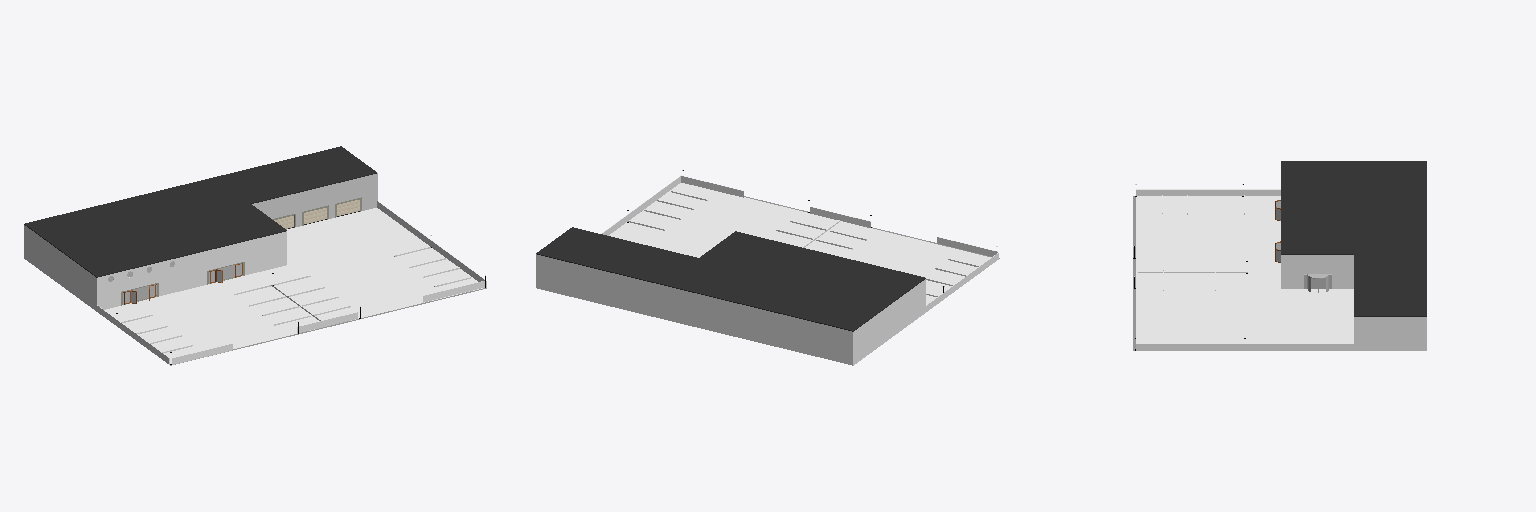
Rendered from Tienda.obj.
The picture shows the model from 3 angles: view 1: azimuth 30°, elevation 25°; view 2: azimuth 150°, elevation 25°; view 3: azimuth 270°, elevation 25°; orthographic projection.
Visible parts, largest first — view 1: room_36_206, room_37_207, wall_13_71, wall_8_41, wall_15_83, wall_18_101, wall_7_35, wall_3_10, wall_12_65, ground_1; view 2: room_37_207, room_36_206, wall_17_95, wall_11_59, wall_18_101, wall_7_35; view 3: room_36_206, room_37_207, wall_3_11, wall_14_77, wall_16_89, wall_10_53, wall_2_4, wall_9_47.
Boxes of the visible parts, x1,y1,x2,y2 form: room_36_206: [105, 208, 482, 363]; room_37_207: [24, 146, 376, 277]; wall_13_71: [97, 231, 286, 294]; wall_8_41: [97, 249, 286, 309]; wall_15_83: [252, 173, 377, 216]; wall_18_101: [24, 225, 96, 294]; wall_7_35: [24, 242, 96, 311]; wall_3_10: [377, 201, 486, 287]; wall_12_65: [270, 191, 377, 226]; ground_1: [130, 216, 486, 365]; room_37_207: [536, 227, 925, 331]; room_36_206: [609, 183, 991, 304]; wall_17_95: [536, 254, 852, 348]; wall_11_59: [536, 272, 852, 365]; wall_18_101: [853, 279, 925, 348]; wall_7_35: [853, 296, 925, 365]; room_36_206: [1136, 196, 1353, 343]; room_37_207: [1281, 161, 1426, 316]; wall_3_11: [1136, 344, 1354, 350]; wall_14_77: [1281, 255, 1353, 271]; wall_16_89: [1354, 317, 1426, 333]; wall_10_53: [1354, 334, 1426, 350]; wall_2_4: [1136, 190, 1280, 195]; wall_9_47: [1281, 272, 1353, 288].
Size of the model in its own units: 5007 by 524 by 4005.